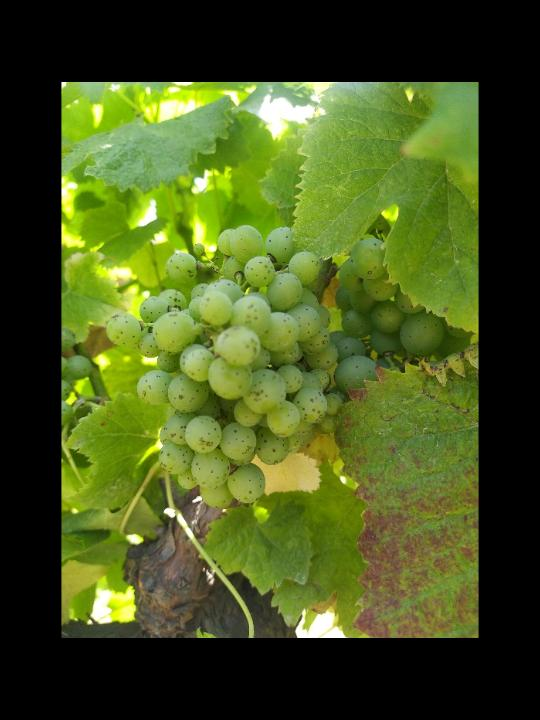grape: (103, 223, 344, 510)
